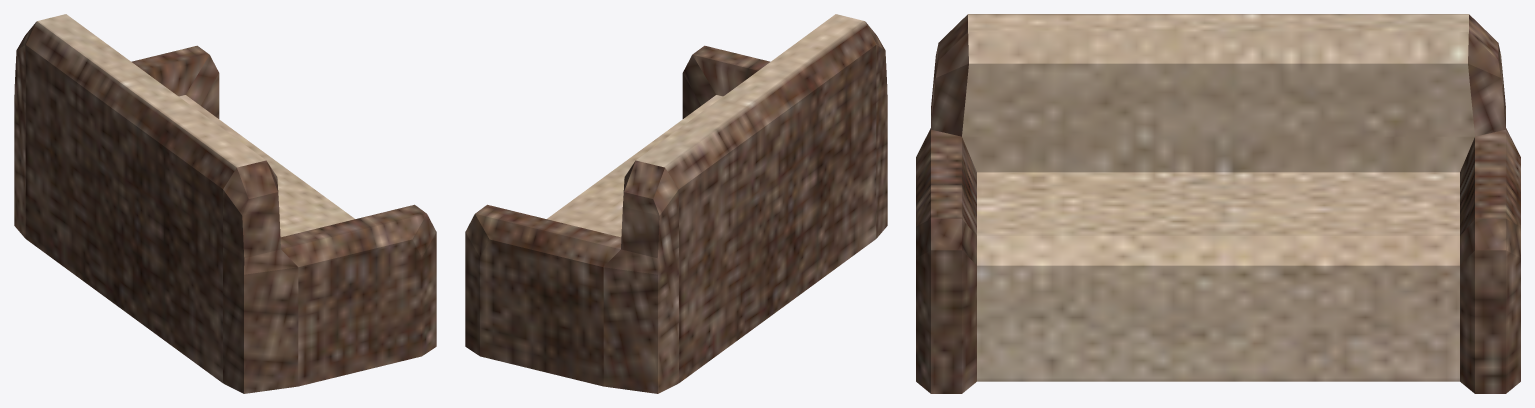
The model's file is couch.fbx.
The picture shows the model from 3 angles, left to right: view 1: azimuth 30°, elevation 25°; view 2: azimuth 150°, elevation 25°; view 3: azimuth 270°, elevation 25°; orthographic projection. The views are drawn at different scales.
Visible parts, largest first — view 1: Cube; view 2: Cube; view 3: Cube.
Boxes of the visible parts, x1,y1,x2,y2 form: Cube: [14, 14, 436, 393]; Cube: [465, 14, 887, 393]; Cube: [916, 14, 1520, 393].
Bounding box in the file's own units: 347 × 358 × 734.
